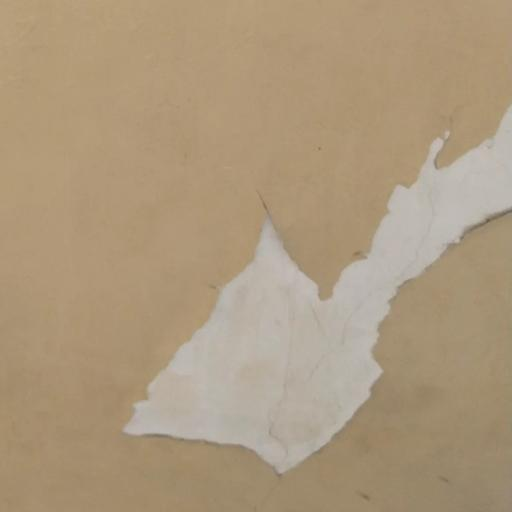peeling: (108, 91, 512, 485)
